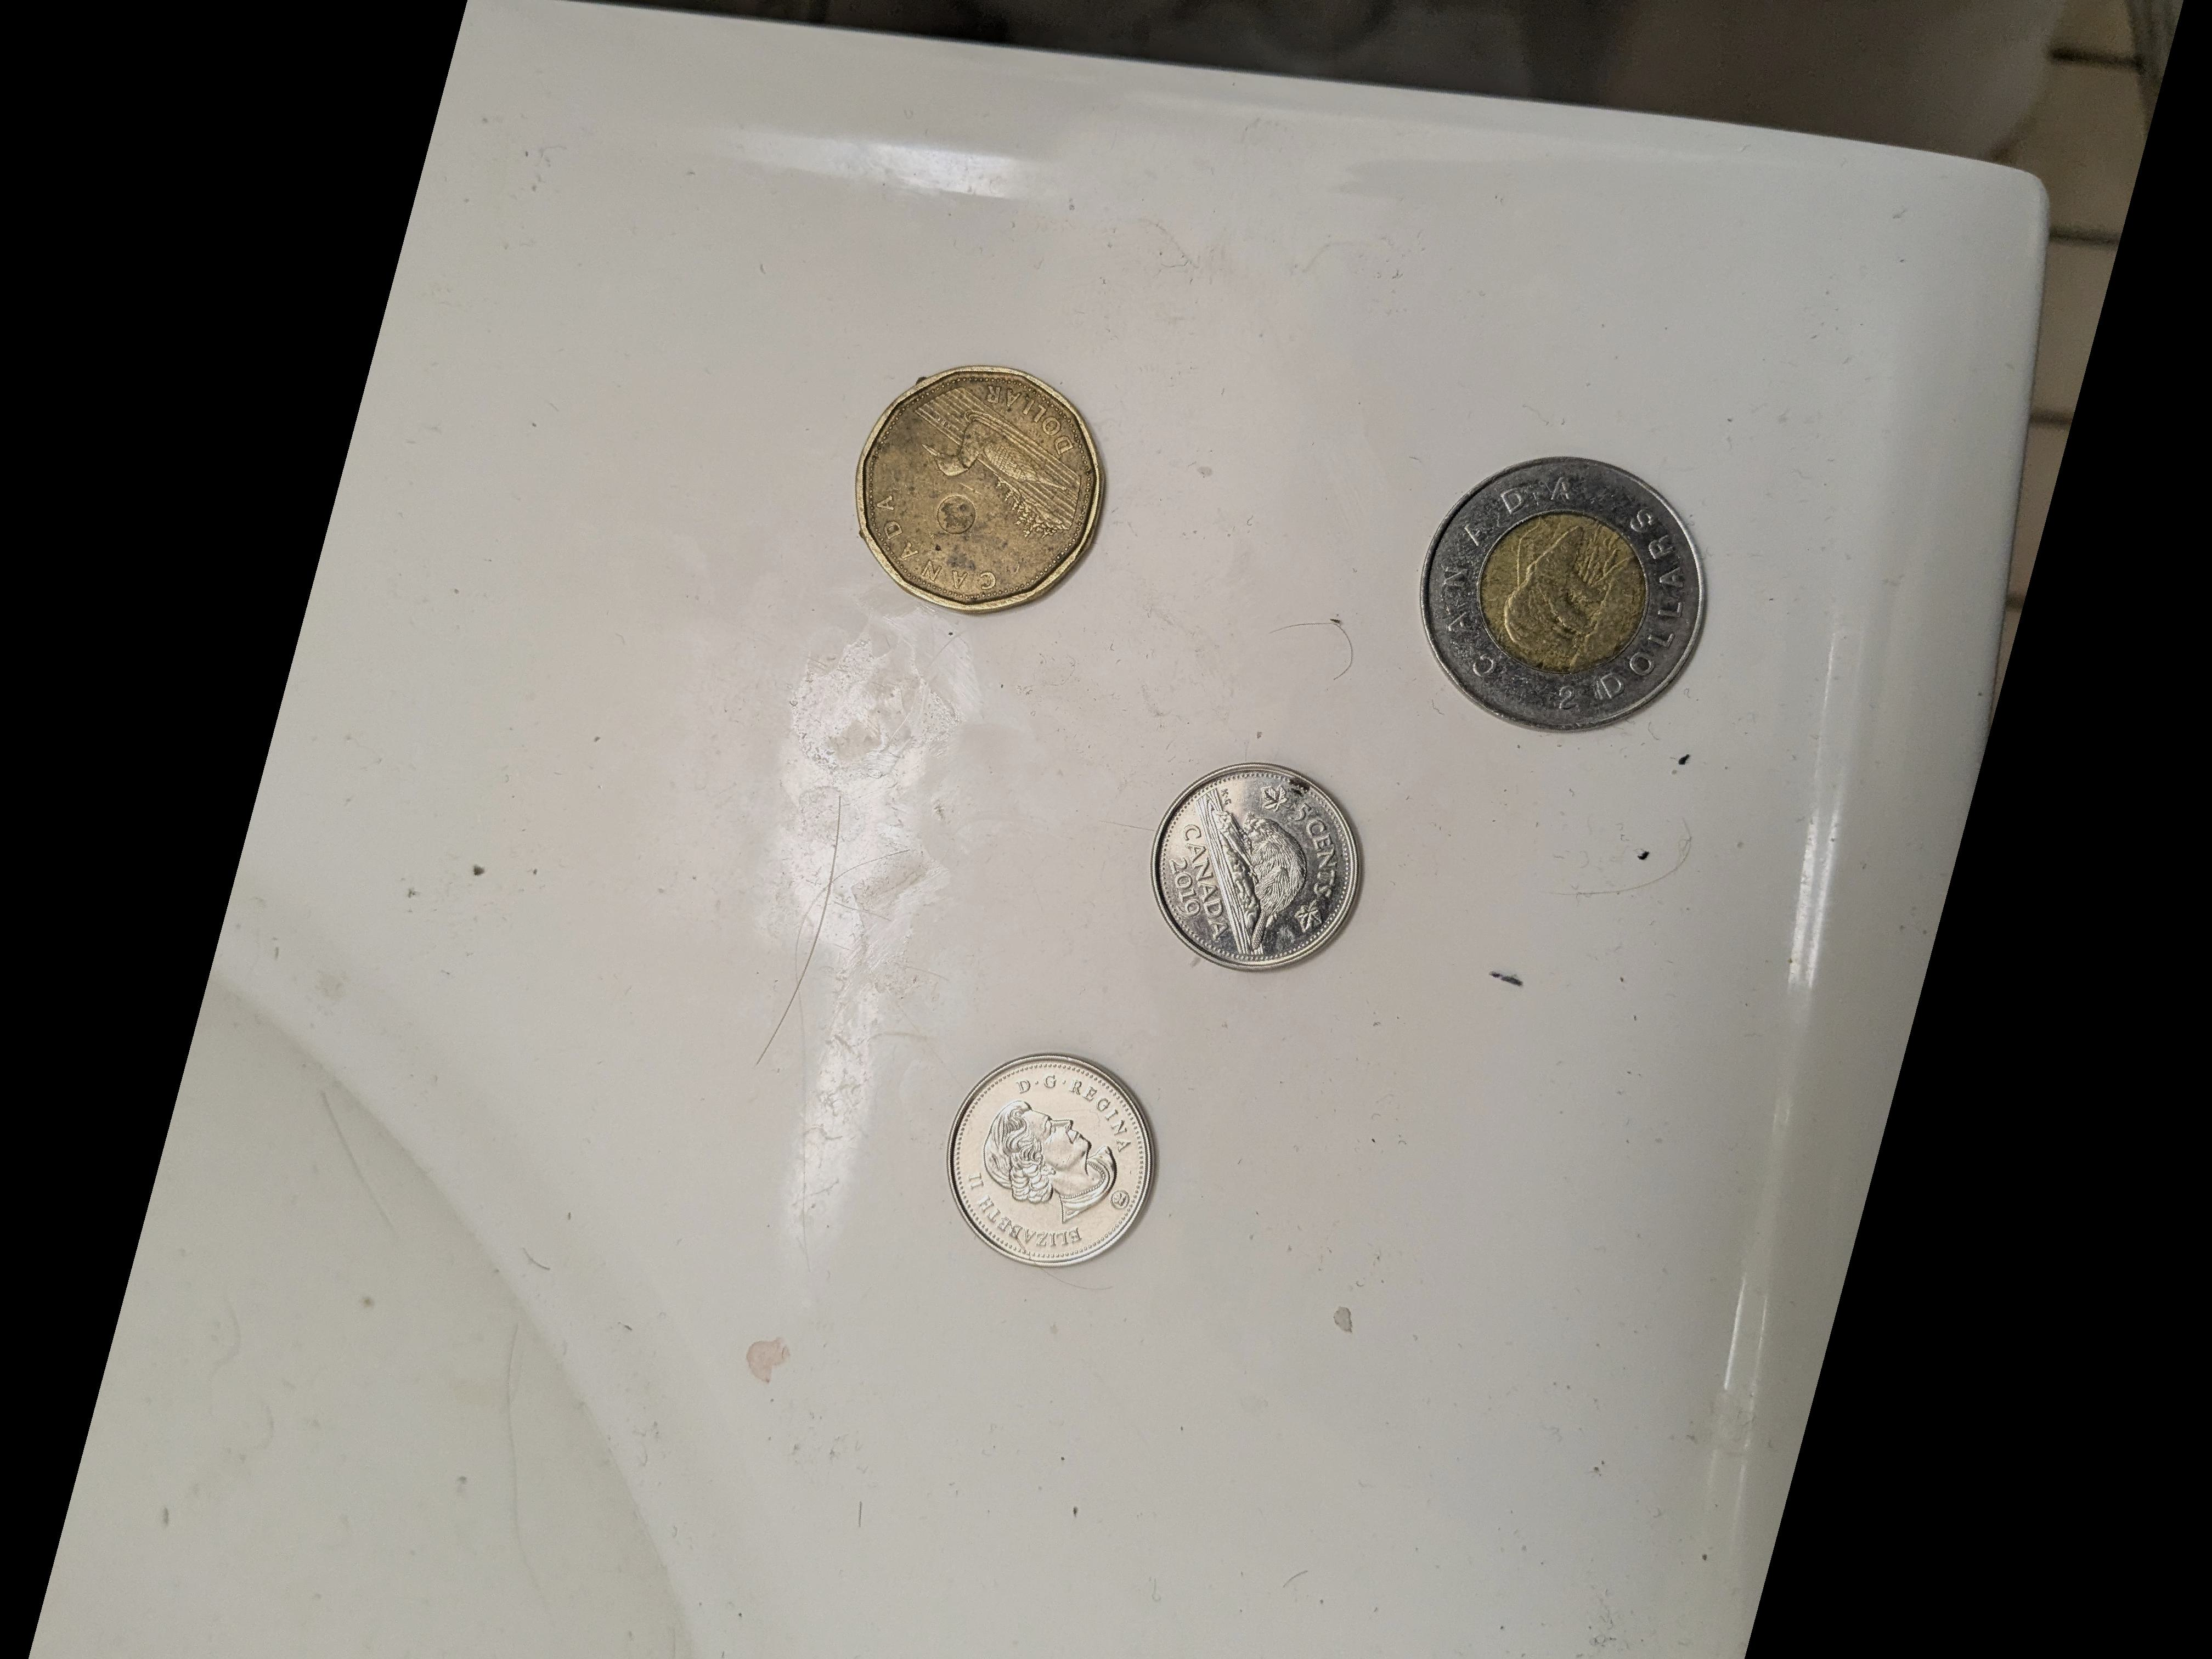loonie: (862, 366, 1111, 615)
nickel: (942, 1051, 1165, 1276), (1153, 765, 1376, 983)
toonie: (1423, 446, 1714, 737)
